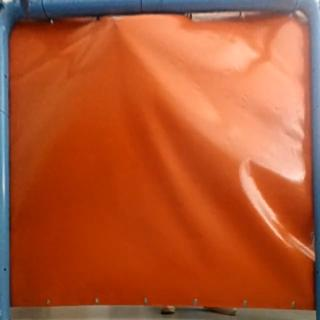Hit-hRxx: (108, 16, 124, 27)
